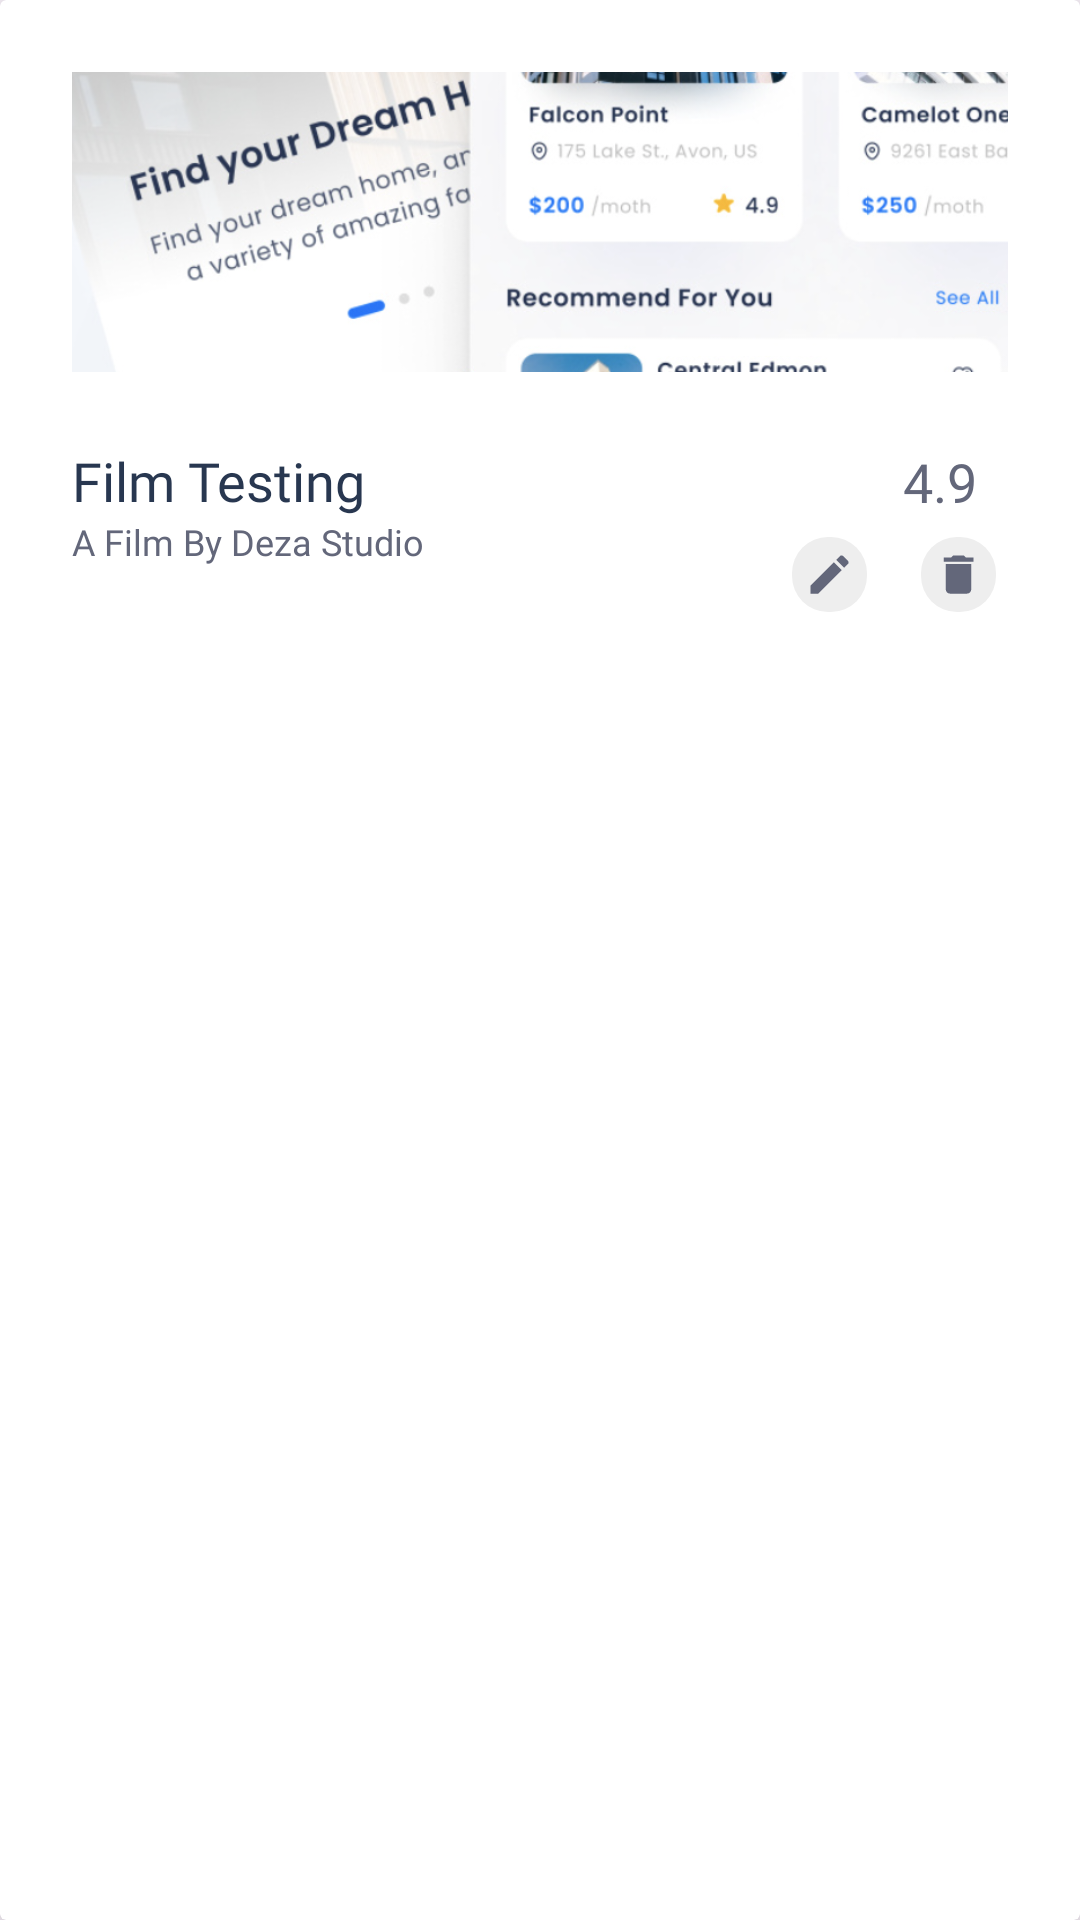

Named icons in this screenshot (1080 × 1920) and their bounding boxes, Rect(x1, y1, x2, y2):
delete: Rect(943, 555, 974, 594)
mode edit: Rect(792, 537, 867, 612)
